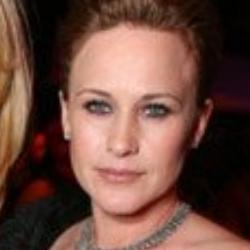face: (50, 3, 227, 228)
